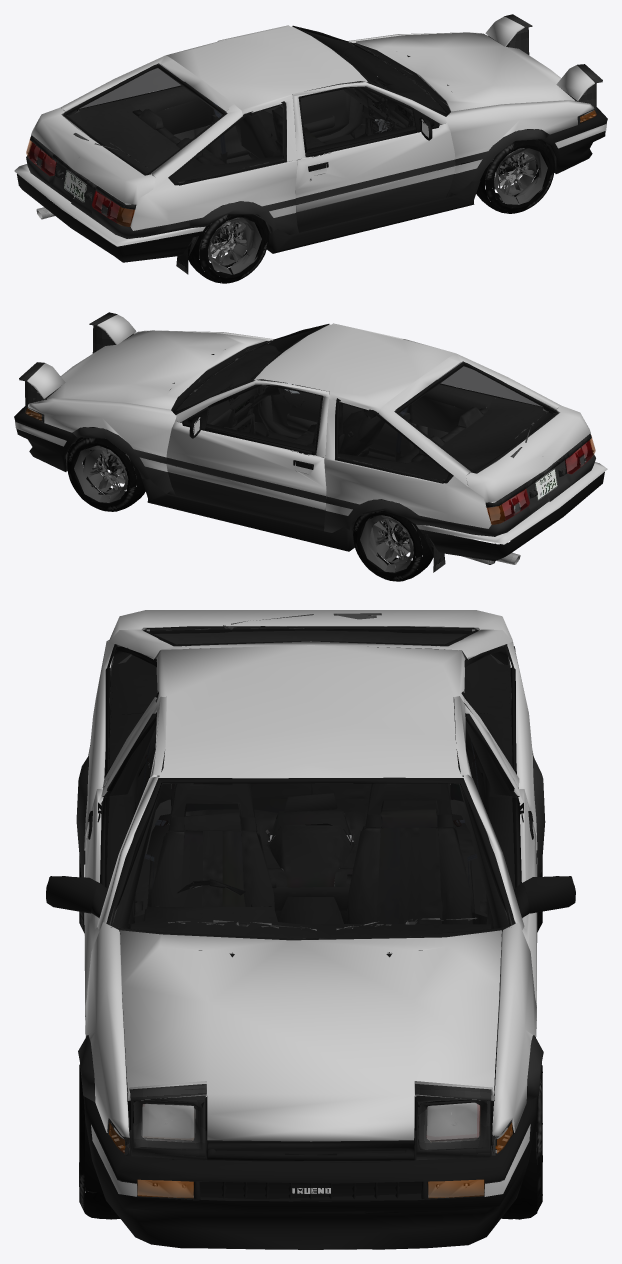
Rendered from veh-toyota-ae86.glb.
The picture shows the model from 3 angles, top to bottom: view 1: azimuth 30°, elevation 25°; view 2: azimuth 150°, elevation 25°; view 3: azimuth 270°, elevation 25°; orthographic projection. The views are drawn at different scales.
Parts seen in each view (by area): view 1: p0; view 2: p0; view 3: p0.
Part boxes in pixels (box(x1,y1,x2,y2)): p0: box(14, 14, 607, 283); p0: box(14, 312, 607, 581); p0: box(46, 610, 575, 1249).
Size of the model in its own units: 421 by 127 by 192.
Materials: 21 (12 with a texture image).
